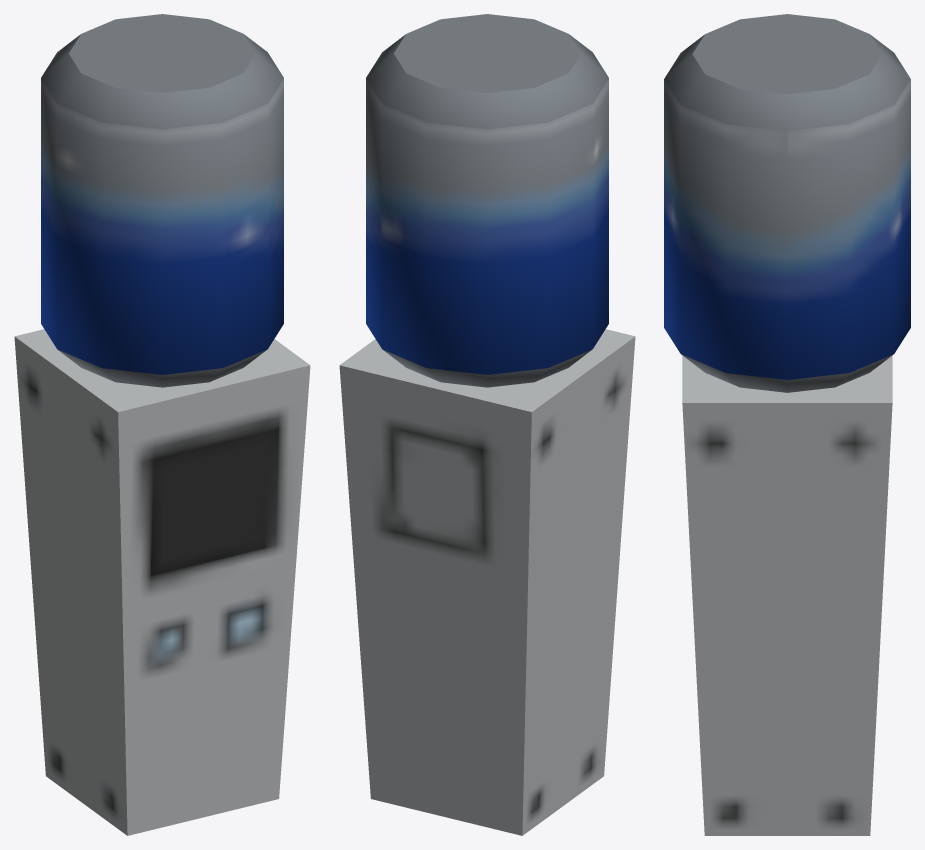
The model's file is Water_Cooler.fbx.
3 renders of one model, left to right at view 1: azimuth 30°, elevation 25°; view 2: azimuth 150°, elevation 25°; view 3: azimuth 270°, elevation 25°, orthographic.
Parts seen in each view (by area): view 1: WaterCooler; view 2: WaterCooler; view 3: WaterCooler.
Part boxes in pixels (<box>): WaterCooler: <box>14,14,310,835</box>; WaterCooler: <box>339,14,635,835</box>; WaterCooler: <box>664,14,910,835</box>.
Size of the model in its own units: 0.6058 by 2.02 by 0.6058.
